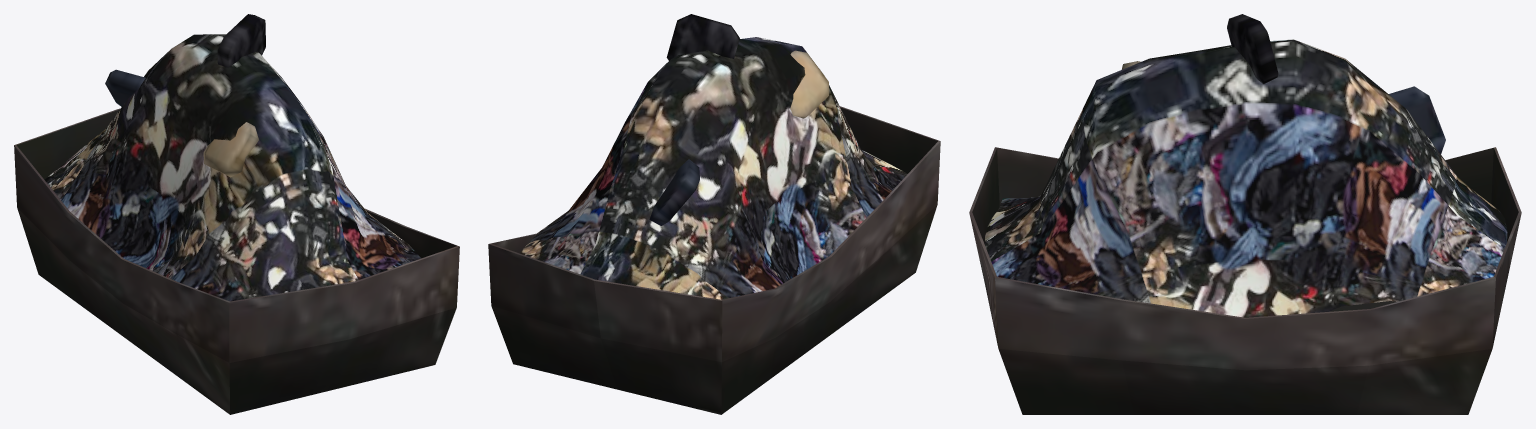
File: interior_dumpster.glb
The picture shows the model from 3 angles, left to right: view 1: azimuth 30°, elevation 25°; view 2: azimuth 150°, elevation 25°; view 3: azimuth 270°, elevation 25°; orthographic projection. The views are drawn at different scales.
Visible parts, largest first — view 1: Engines.001, EnginesMetalCasing.001, Cube, Cube.002, Cube.001; view 2: Engines.001, EnginesMetalCasing.001, Cube.002, Cube.001, Cube; view 3: Engines.001, EnginesMetalCasing.001, Cube.002, Cube.001.
Boxes of the visible parts, x1=… form: Engines.001: x1=44, y1=34, x2=421, y2=301; EnginesMetalCasing.001: x1=14, y1=108, x2=459, y2=414; Cube: x1=203, y1=122, x2=258, y2=177; Cube.002: x1=217, y1=14, x2=265, y2=67; Cube.001: x1=105, y1=69, x2=145, y2=106; Engines.001: x1=519, y1=37, x2=907, y2=299; EnginesMetalCasing.001: x1=488, y1=106, x2=940, y2=414; Cube.002: x1=666, y1=14, x2=739, y2=60; Cube.001: x1=649, y1=159, x2=699, y2=225; Cube: x1=790, y1=50, x2=828, y2=118; Engines.001: x1=985, y1=39, x2=1507, y2=317; EnginesMetalCasing.001: x1=969, y1=147, x2=1521, y2=414; Cube.002: x1=1227, y1=14, x2=1278, y2=84; Cube.001: x1=1388, y1=86, x2=1445, y2=153.
Bounding box in the file's own units: 15.58 × 19.17 × 27.8.
2 materials, 2 textured.
